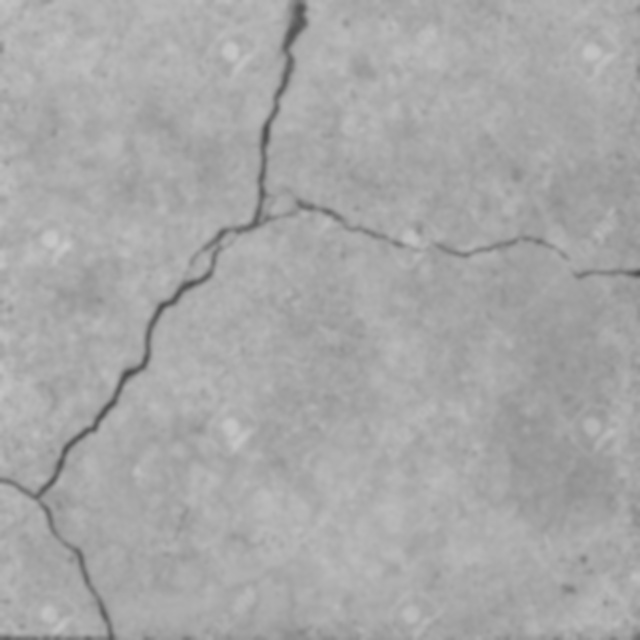SurfaceCrack: (2, 0, 345, 640), (227, 175, 640, 340)
